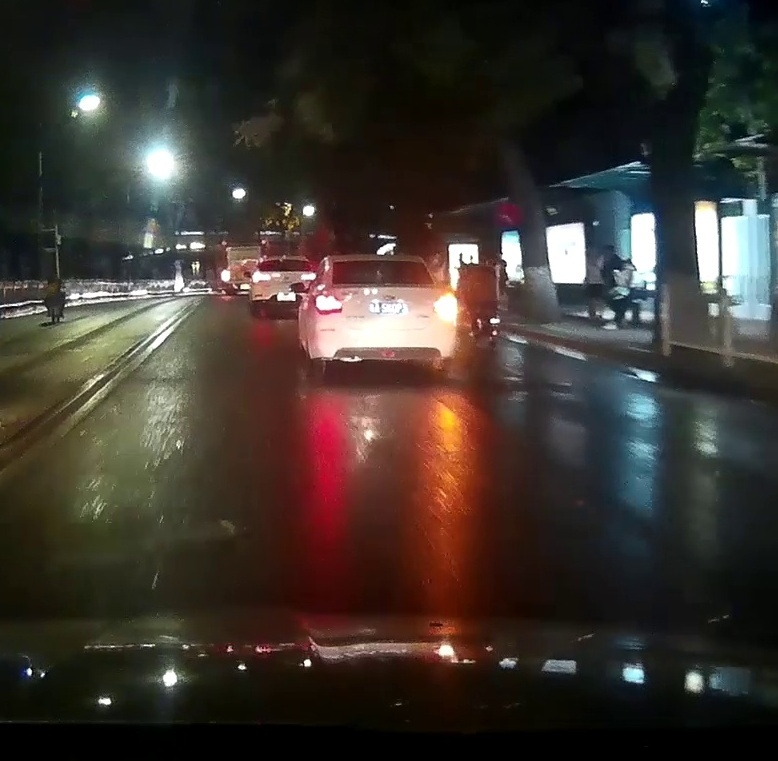L_light: (314, 295, 343, 314)
R_light: (434, 296, 455, 313)
T_light: (370, 261, 392, 264)
night-right: (309, 254, 456, 378)
